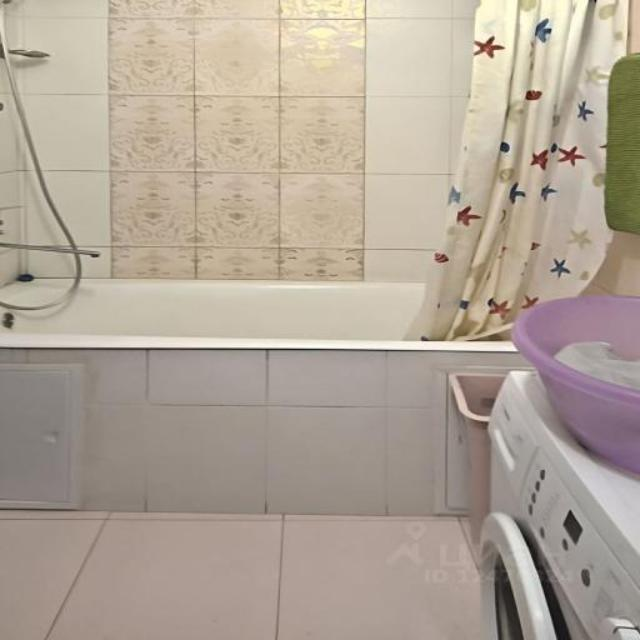Washing-Machine: (478, 369, 638, 639)
